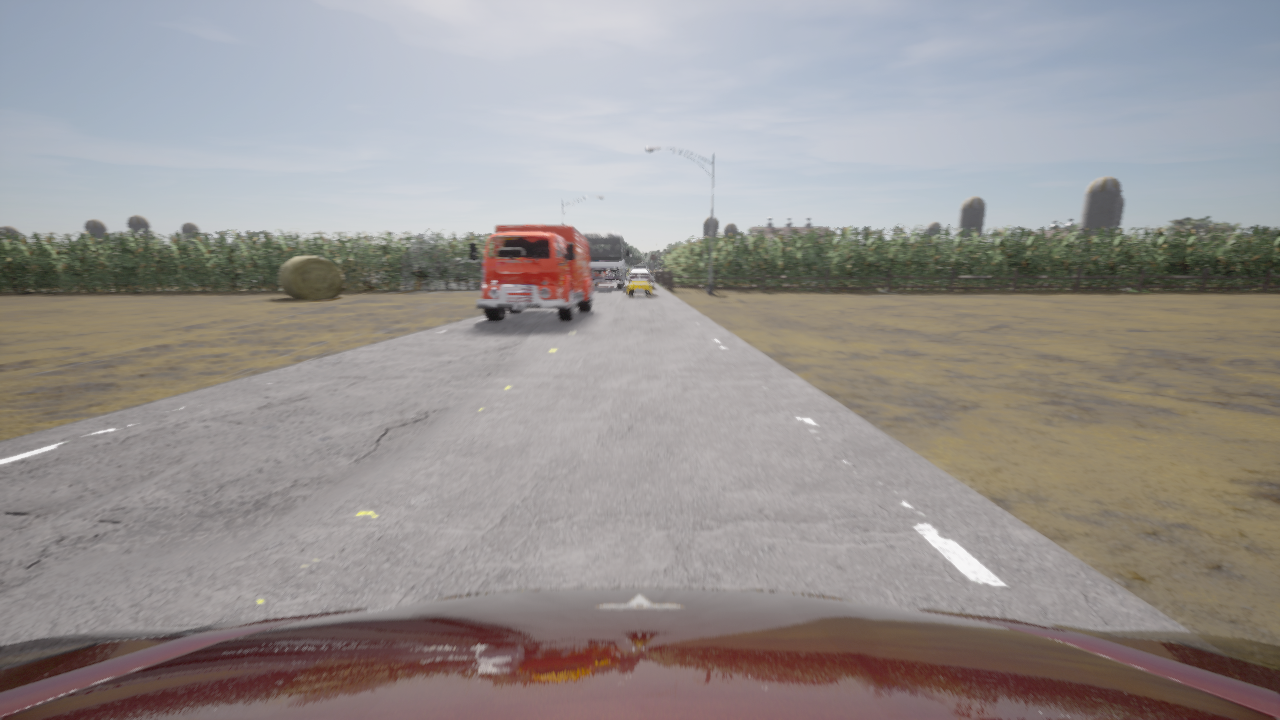cyclist: (0, 588, 1279, 719), (468, 224, 593, 321), (582, 231, 629, 289), (626, 270, 653, 296), (629, 270, 653, 288)
